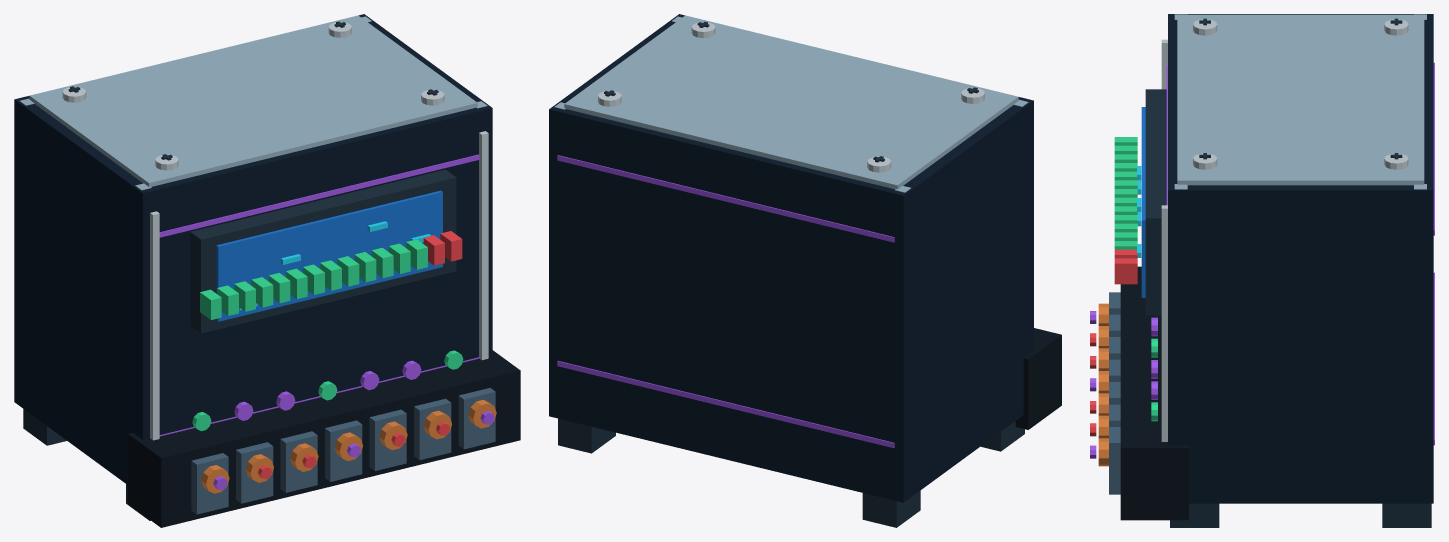
Rendered from 42_L75_IonSpeciesPurityAnalyzer.fbx.
The picture shows the model from 3 angles, left to right: view 1: azimuth 30°, elevation 25°; view 2: azimuth 150°, elevation 25°; view 3: azimuth 270°, elevation 25°; orthographic projection. The views are drawn at different scales.
Parts seen in each view (by area): view 1: IonSpeciesPurityAnalyzer; view 2: IonSpeciesPurityAnalyzer; view 3: IonSpeciesPurityAnalyzer.
Boxes of the visible parts, <box> form: IonSpeciesPurityAnalyzer: <box>14,14,520,527</box>; IonSpeciesPurityAnalyzer: <box>549,14,1061,527</box>; IonSpeciesPurityAnalyzer: <box>1090,14,1434,527</box>.
Bounding box in the file's own units: 113 × 103 × 90.8.
